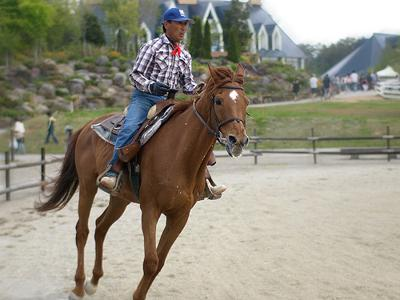person: (101, 6, 227, 198)
